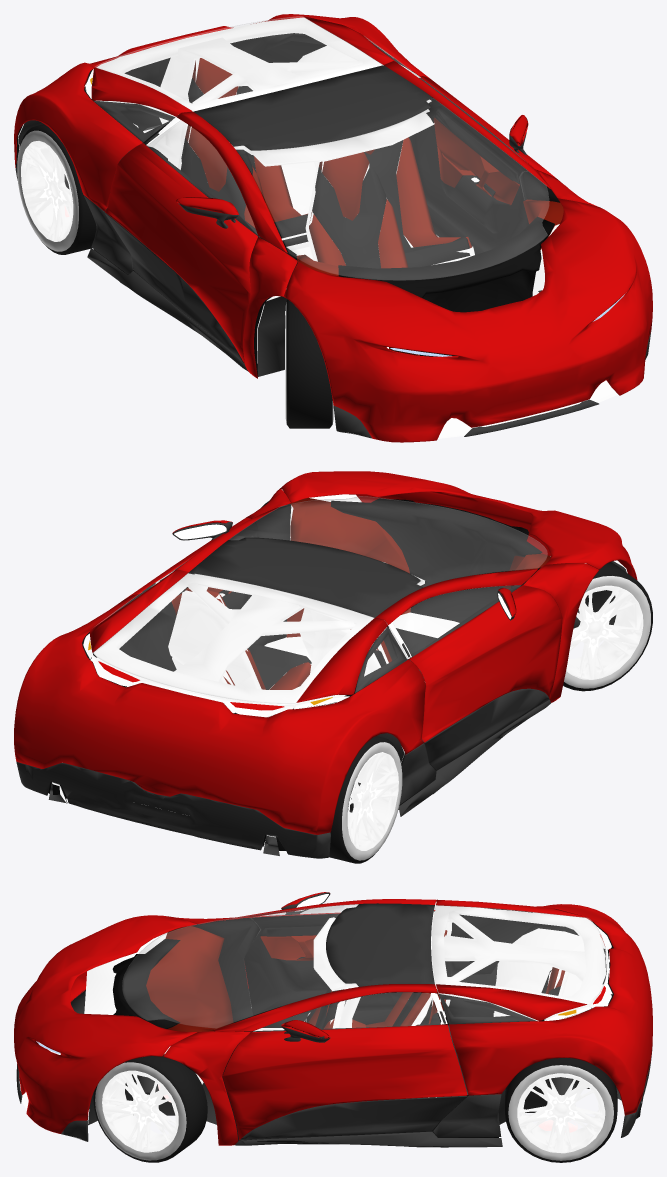
File: car_hi.glb
The picture shows the model from 3 angles, top to bottom: view 1: azimuth 30°, elevation 25°; view 2: azimuth 150°, elevation 25°; view 3: azimuth 270°, elevation 25°; orthographic projection. The views are drawn at different scales.
Visible parts, largest first — view 1: BodyHood, BodyWindshield, BodyRearwindow, BodyDoorRColor1, BodyRearPanelsColor1, BodyRoofPanel, InteriorSeatsColor1, InteriorSeatsColor2, InteriorPillar, InteriorDashMid, BodyPillars, InteriorRearHatch (+18 smaller); view 2: BodyRearPanelsColor1, BodyRearwindow, BodyWindshield, BodyPanelsColor2, BodyDoorRColor1, InteriorDashMid, BodyHood, BodyRoofPanel, InteriorRearHatch, BodyPillars, InteriorPillar, InteriorDashSides (+16 smaller); view 3: BodyWindshield, BodyRearPanelsColor1, BodyHood, BodyDoorLColor1, BodyRearwindow, BodyRoofPanel, BodyPillars, InteriorDashSides, BodyPanelsColor2, BodyDoorLColor2, InteriorPillar, InteriorMid (+21 smaller).
Boxes of the visible parts, x1,y1,x2,y2 form: BodyHood: (284,198,652,442); BodyWindshield: (234,98,549,280); BodyRearwindow: (95,16,382,110); BodyDoorRColor1: (104,143,257,363); BodyRearPanelsColor1: (14,14,429,210); BodyRoofPanel: (193,65,432,150); InteriorSeatsColor1: (185,58,471,268); InteriorSeatsColor2: (180,78,470,268); InteriorPillar: (159,37,434,169); InteriorDashMid: (338,216,554,356); BodyPillars: (176,61,599,378); InteriorRearHatch: (96,17,383,118); BodyRearPanelsColor1: (14,569,425,834); BodyRearwindow: (92,573,373,703); BodyWindshield: (229,496,547,587); BodyPanelsColor2: (16,700,550,858); BodyDoorRColor1: (409,585,562,742); InteriorDashMid: (331,498,542,622); BodyHood: (278,471,637,579); BodyRoofPanel: (189,537,422,617); InteriorRearHatch: (93,573,386,708); BodyPillars: (174,489,598,702); InteriorPillar: (174,562,424,681); InteriorDashSides: (285,493,550,637); BodyWindshield: (122,904,357,1028); BodyRearPanelsColor1: (436,899,652,1115); BodyHood: (14,915,196,1133); BodyDoorLColor1: (222,1024,467,1139); BodyRearwindow: (432,905,606,1003); BodyRoofPanel: (326,903,434,986); BodyPillars: (163,899,437,1145); InteriorDashSides: (146,926,233,1032); BodyPanelsColor2: (16,989,652,1147); BodyDoorLColor2: (240,1096,467,1140); InteriorPillar: (313,910,586,1028); InteriorMid: (183,918,498,1144).
Size of the model in its own units: 2.54 by 1.15 by 4.36.
